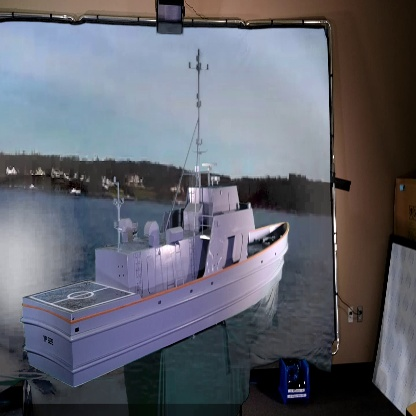YP689: (16, 54, 293, 393)
